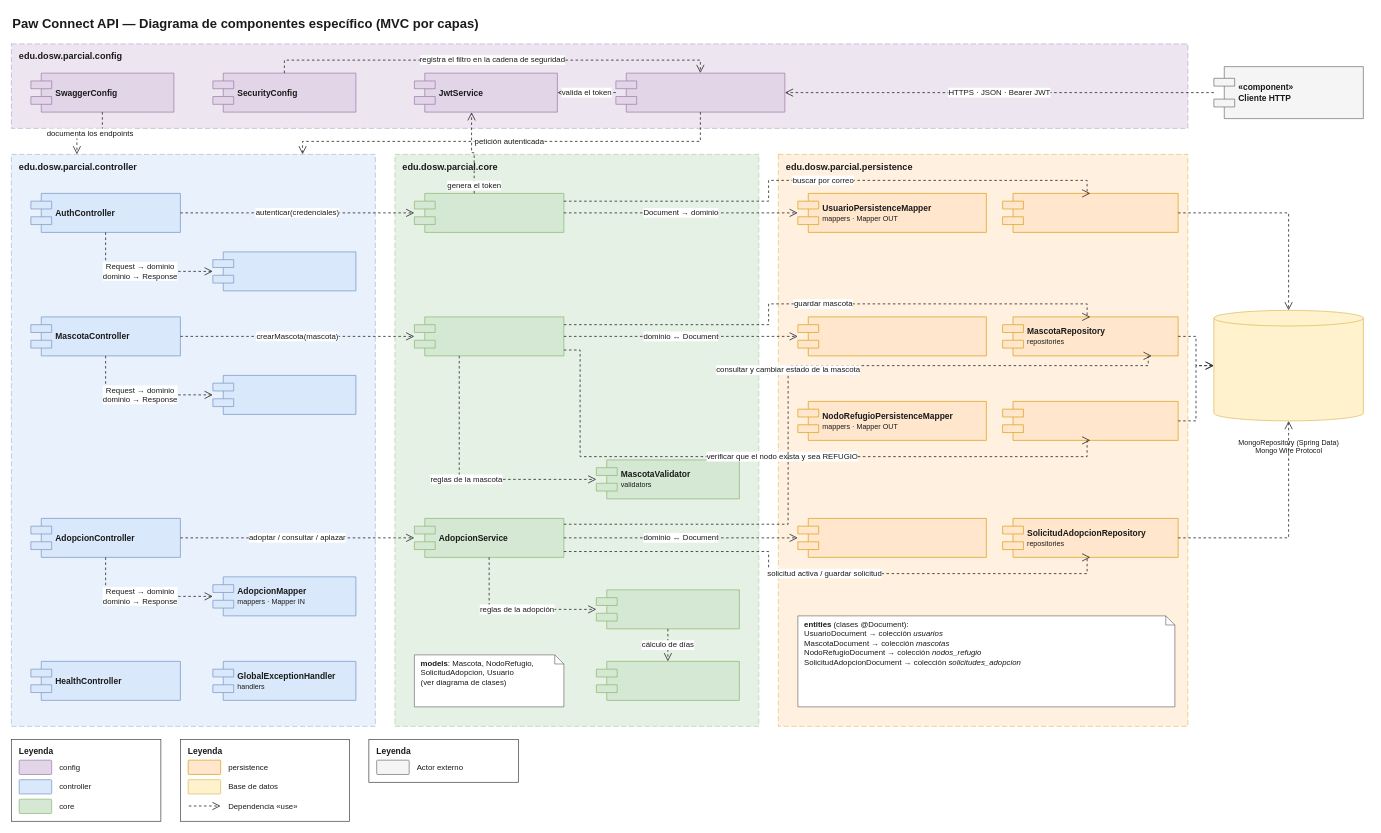
The diagram is 1381 pixels wide and 833 high, and some of its shapes have lost their labels. The shapes that lost their labels are listed below. From the top down, each one's centre as x and y in pixels, then its label:
[700,92]: JwtAuthenticationFilter
[489,212]: AuthService
[1090,212]: UsuarioRepository repositories
[284,271]: AuthMapper mappers · Mapper IN
[489,336]: MascotaService
[891,336]: MascotaPersistenceMapper mappers · Mapper OUT
[1288,365]: MongoDB dosw_parcial usuarios · mascotas nodos_refugio solicitudes_adopcion
[284,394]: MascotaMapper mappers · Mapper IN
[1090,420]: NodoRefugioRepository repositories
[891,537]: SolicitudAdopcionPersistenceMapper mappers · Mapper OUT
[667,609]: AdopcionValidator validators
[667,680]: FechaUtils utils
